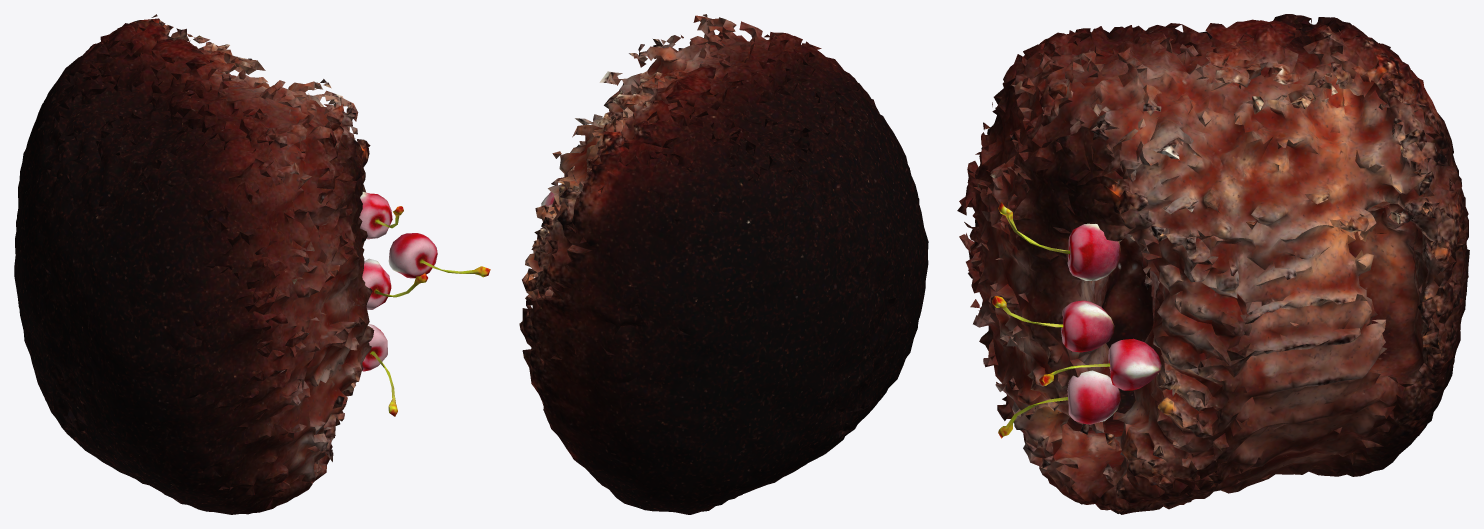
Rendered from cake_4.glb.
The picture shows the model from 3 angles, left to right: view 1: azimuth 30°, elevation 25°; view 2: azimuth 150°, elevation 25°; view 3: azimuth 270°, elevation 25°; orthographic projection. The views are drawn at different scales.
Visible parts, largest first — view 1: model, model.010, model.006, model.002, model.007; view 2: model; view 3: model, model.006, model.007, model.002, model.010.
Boxes of the visible parts, x1=… form: model: x1=14, y1=14, x2=374, y2=514; model.010: x1=388, y1=233, x2=490, y2=278; model.006: x1=359, y1=192, x2=403, y2=239; model.002: x1=362, y1=258, x2=427, y2=309; model.007: x1=362, y1=324, x2=397, y2=416; model: x1=519, y1=14, x2=928, y2=514; model: x1=957, y1=14, x2=1469, y2=514; model.006: x1=998, y1=202, x2=1120, y2=280; model.007: x1=998, y1=370, x2=1120, y2=438; model.002: x1=992, y1=296, x2=1114, y2=352; model.010: x1=1039, y1=338, x2=1161, y2=390.
Size of the model in its own units: 0.7987 by 0.8343 by 0.8291.
5 materials, 5 textured.
